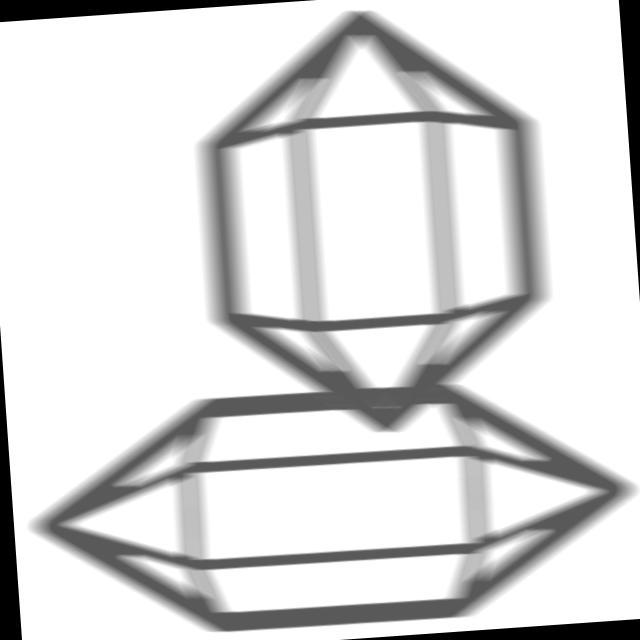crystal: (171, 1, 577, 454), (9, 356, 640, 640)
